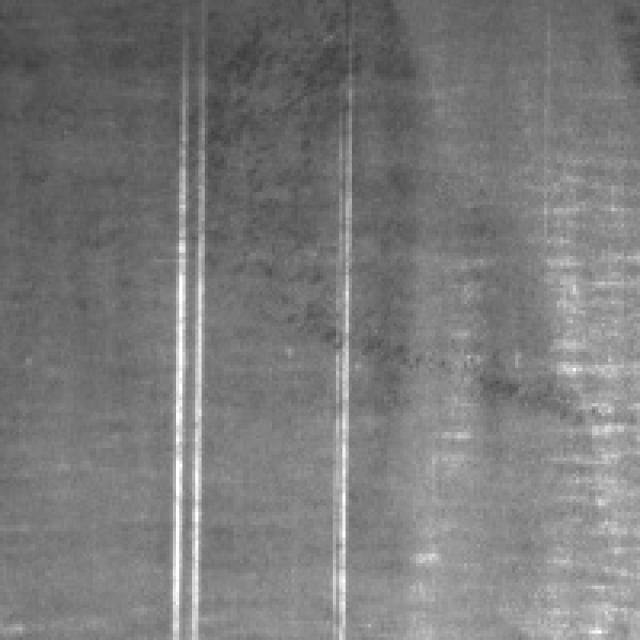scratches: (160, 16, 218, 637), (320, 67, 365, 637)
